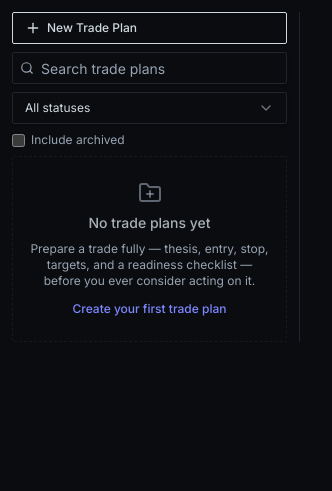
Test: TradePlannerSidebar — create plan › the empty state's own action button also opens the create form
The width and height of the screenshot is (332, 491).
Click the button with test id "trade-planner-sidebar-list-empty-action". click: click(150, 309)
box: [72,301,226,317]
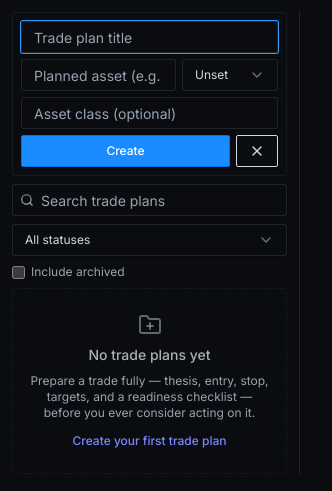
Expected: the element with test id "trade-planner-sidebar-create-form" is shown, [12,12,287,176]
